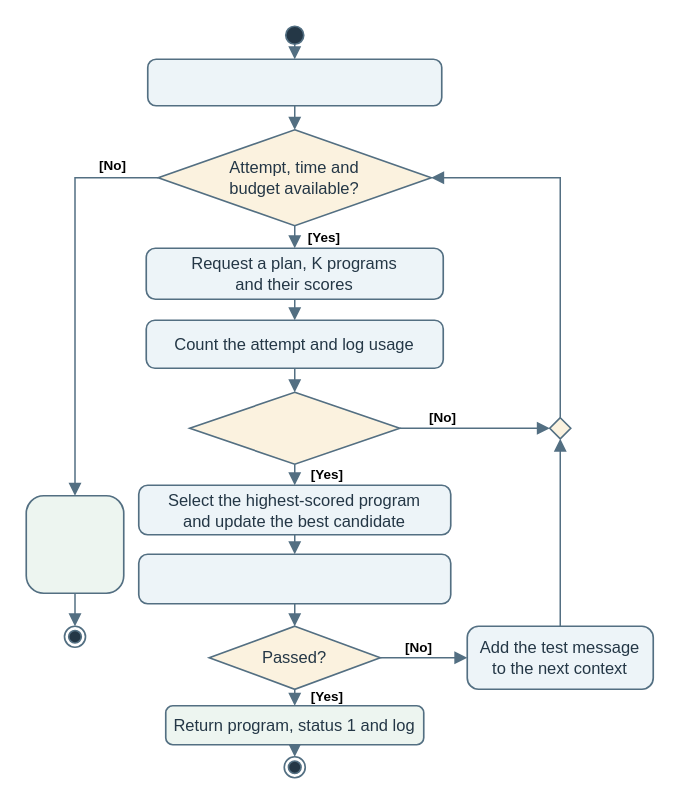
Image size: 681x806. Some labels were removed from this diagram. Each missing label, with the centre of its shape:
Return best or none, status 0 and log: [74,543]
Run the external check and log verdict, score and message: [294,578]
Set best = none and best score = -1: [294,82]
Valid format?: [294,427]
